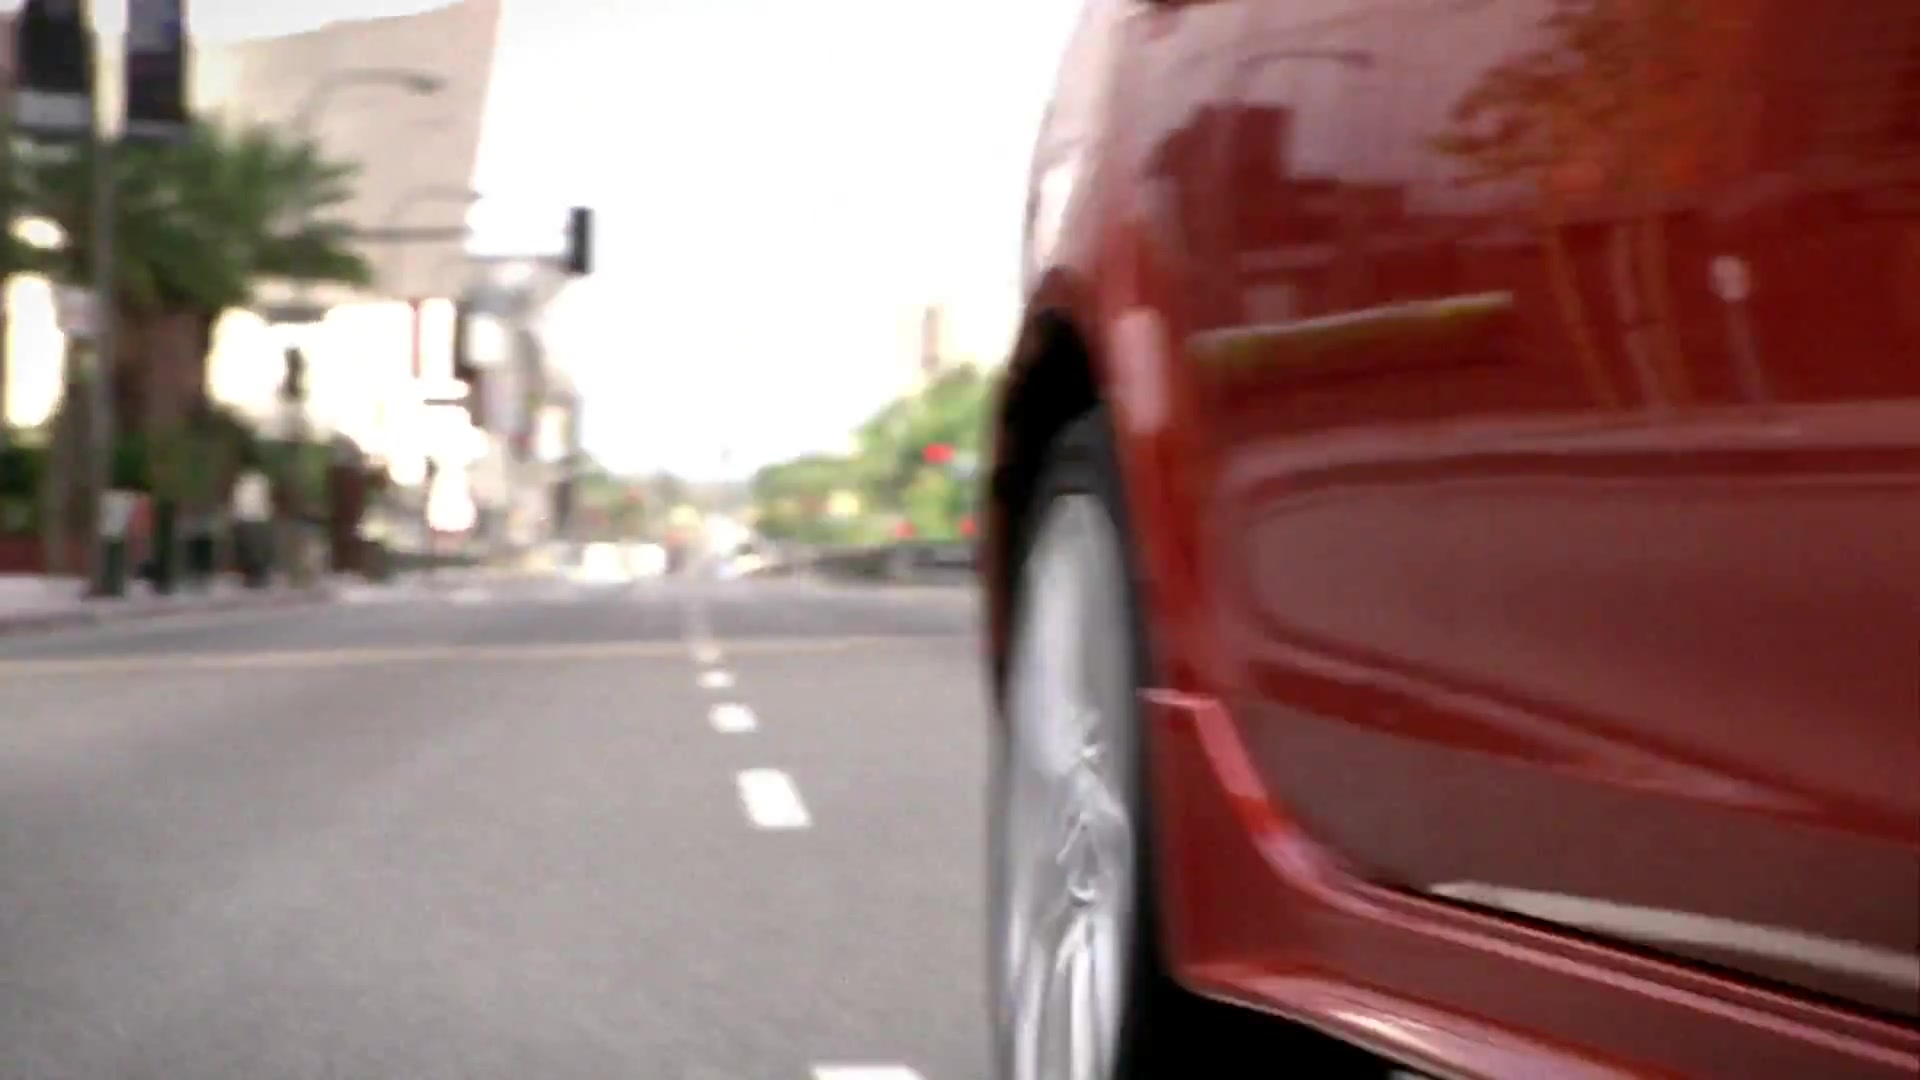car: (973, 1, 1920, 1080)
